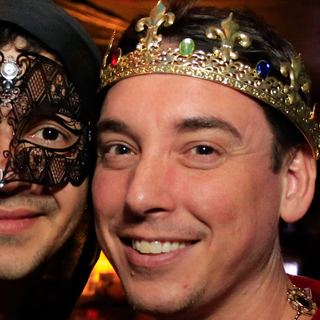eye: (172, 138, 227, 167), (25, 119, 72, 149), (95, 138, 140, 162)
